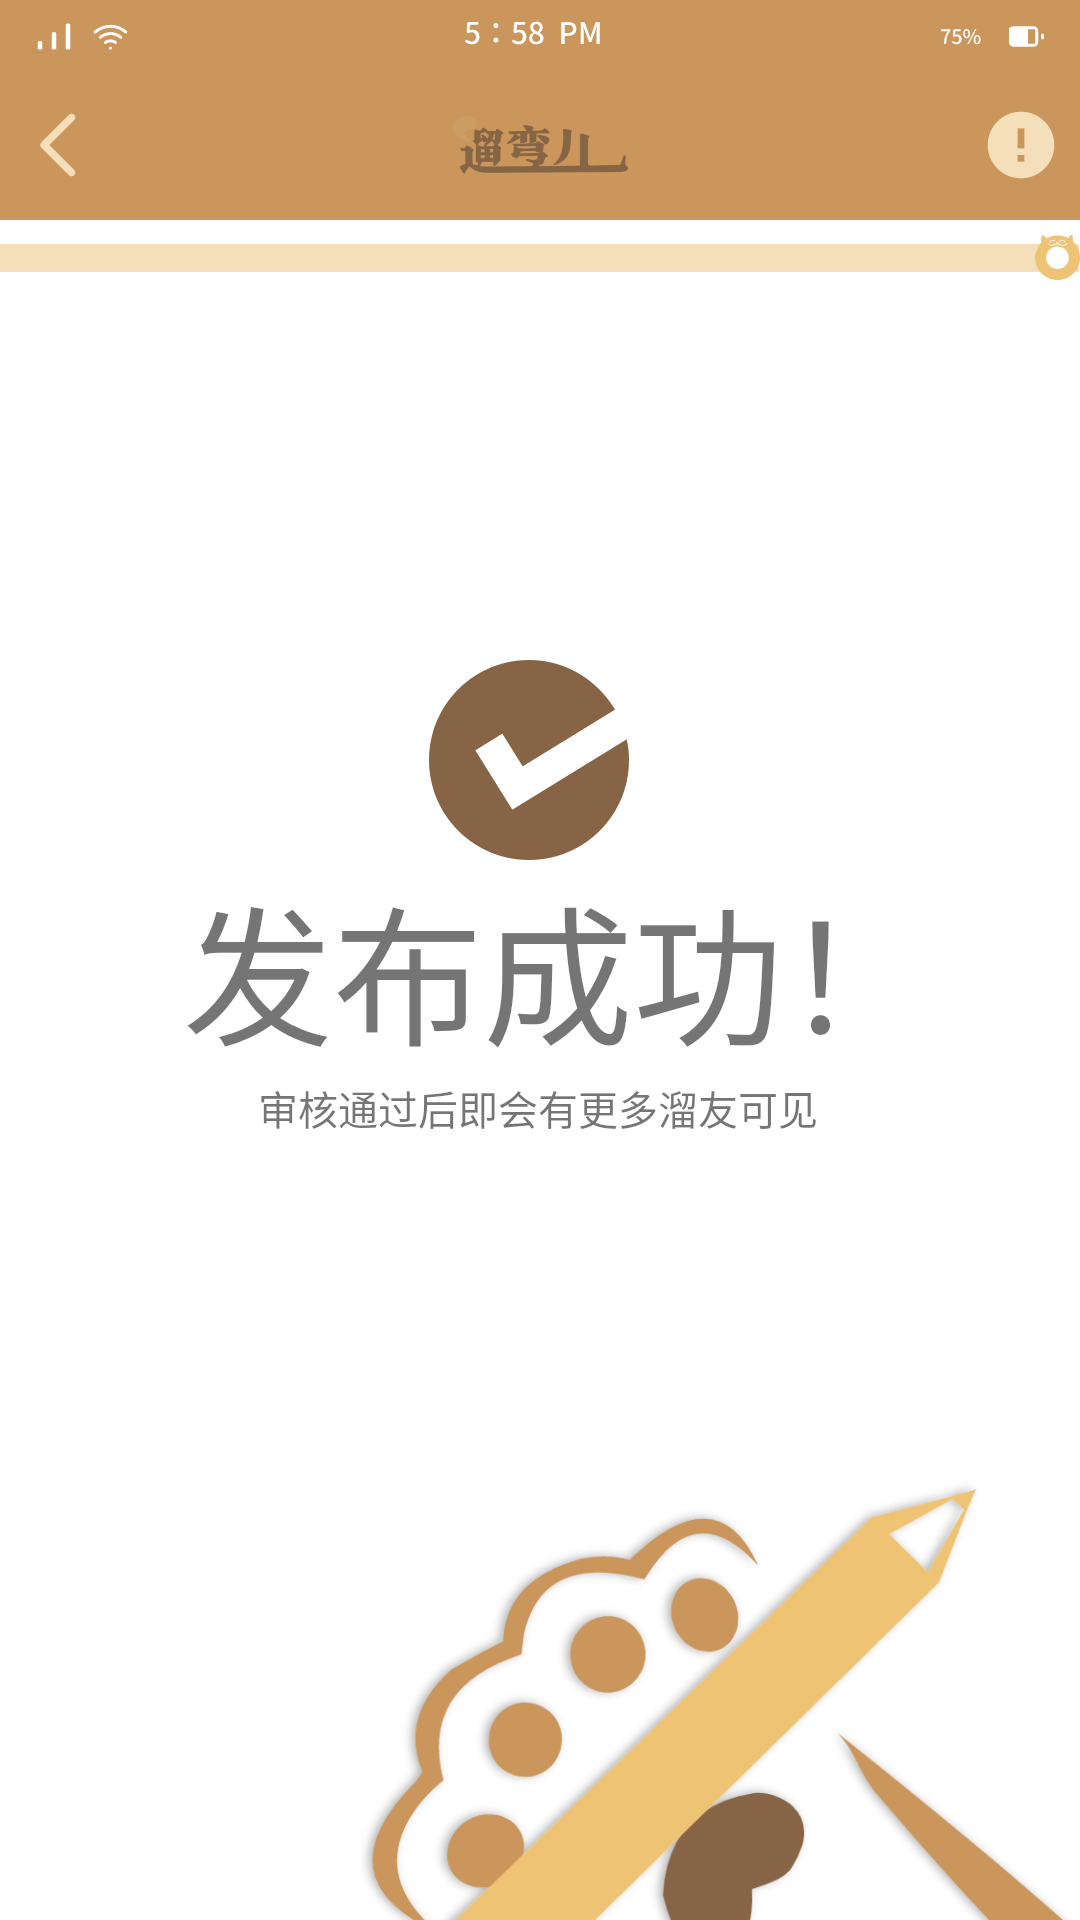

Icons on this 1080 x 1920 Android screen, each with the point to tap as (x,y):
back: (57,145)
instruction: (1021,145)
success: (529,760)
